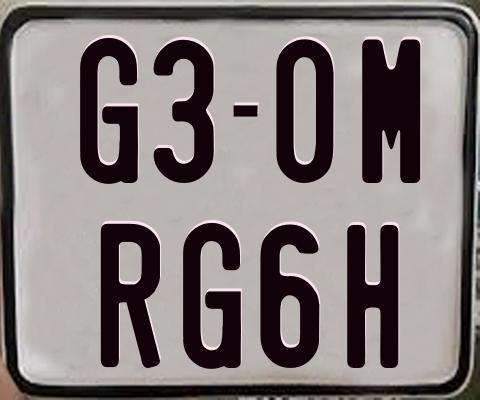0: (274, 36, 337, 183)
3: (150, 38, 212, 185)
6: (260, 223, 320, 367)
G: (183, 222, 246, 371), (77, 37, 135, 187)
H: (347, 224, 402, 373)
M: (359, 36, 421, 183)
R: (99, 224, 163, 372)
